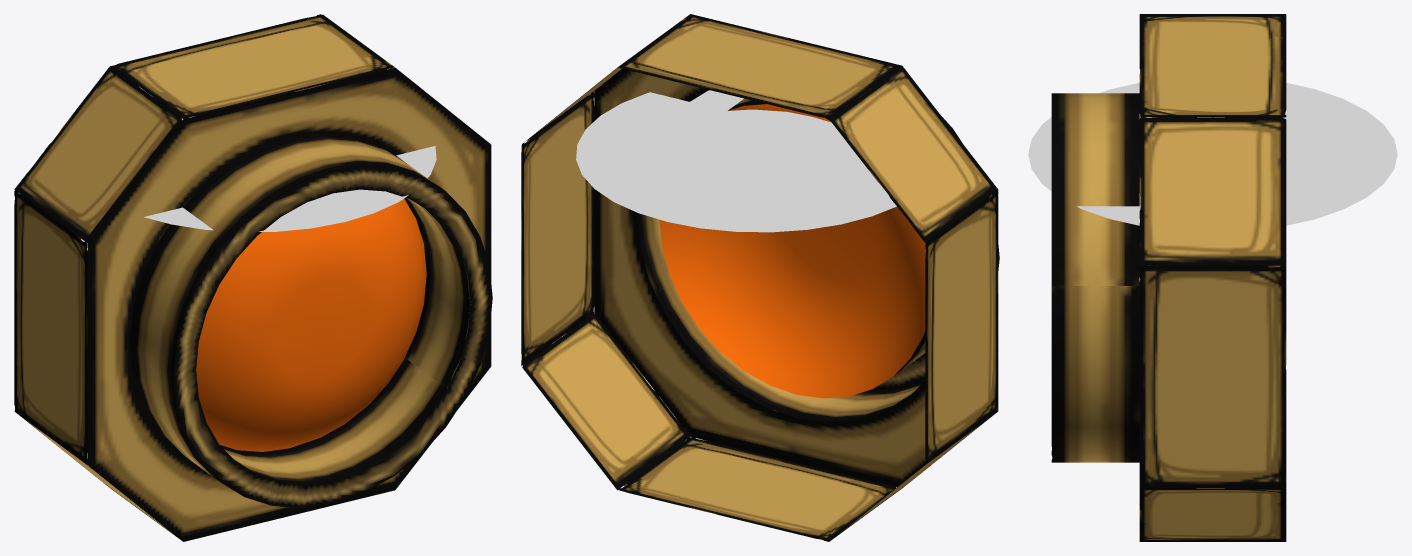
Rendered from flake.fbx.
The picture shows the model from 3 angles, left to right: view 1: azimuth 30°, elevation 25°; view 2: azimuth 150°, elevation 25°; view 3: azimuth 270°, elevation 25°; orthographic projection.
Parts seen in each view (by area): view 1: Cube, Circle; view 2: Cube, Circle; view 3: Cube, Circle.
Part boxes in pixels (<box>): Cube: <box>14,14,492,541</box>; Circle: <box>144,89,436,231</box>; Cube: <box>521,14,999,541</box>; Circle: <box>576,90,896,232</box>; Cube: <box>1051,14,1286,541</box>; Circle: <box>1028,82,1397,225</box>.
Size of the model in its own units: 41.92 by 41.92 by 33.1.
